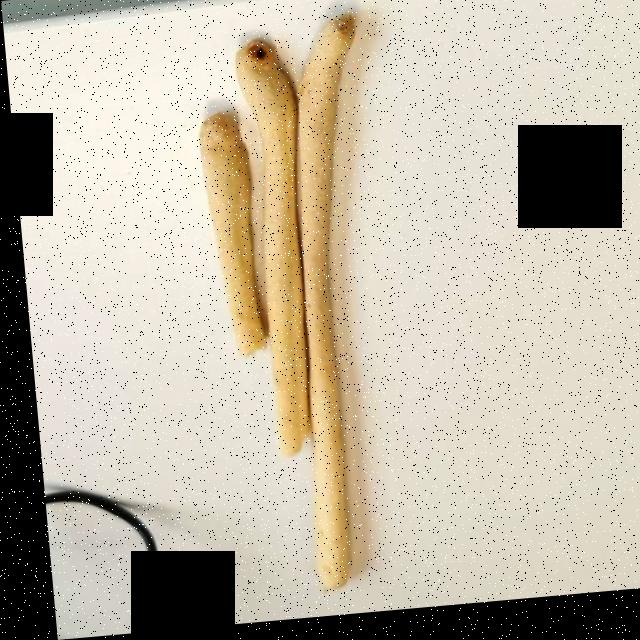grissini: (204, 9, 352, 594)
